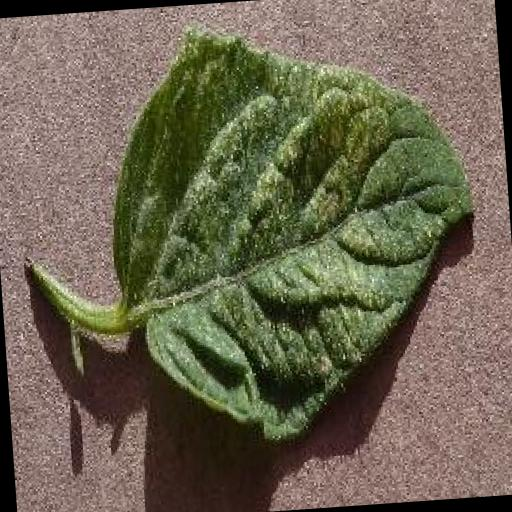Spider Mites: (95, 10, 493, 452)
